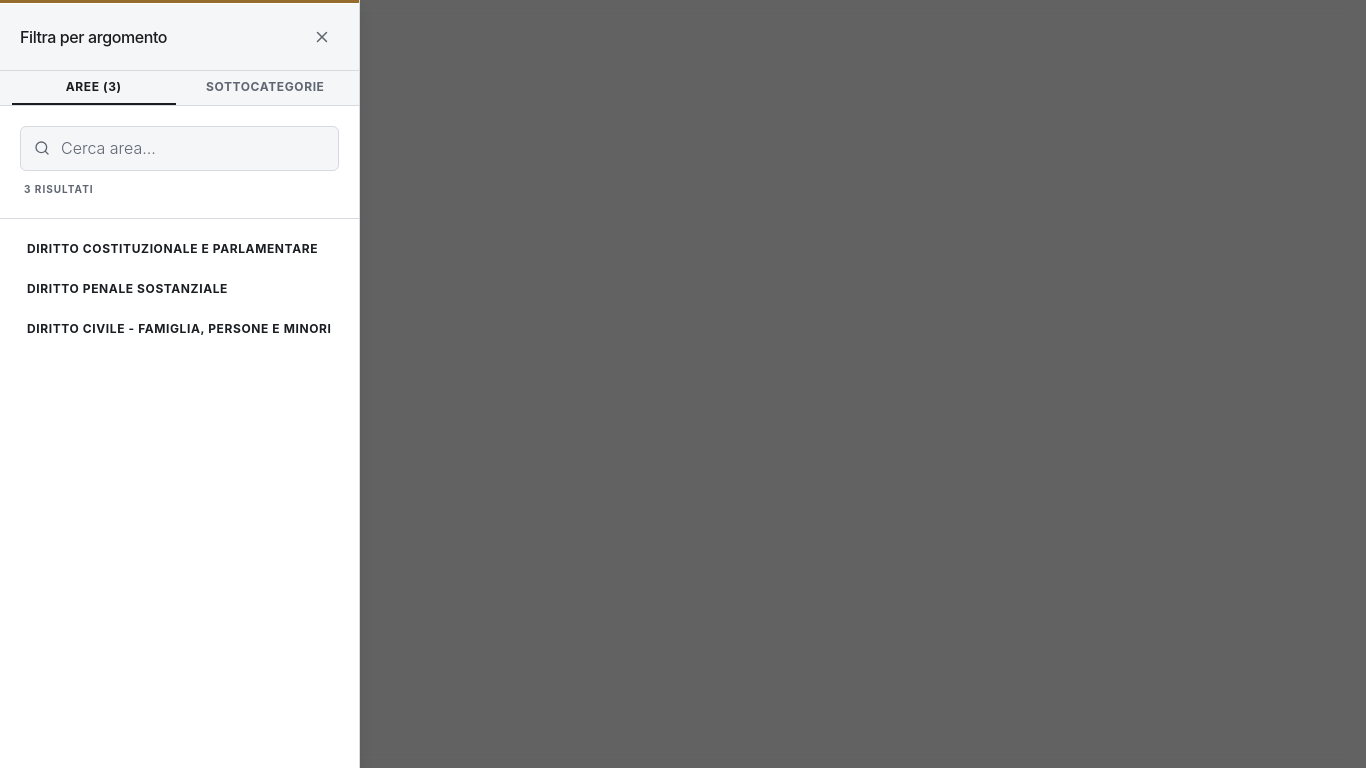
Test case: LeftPickerPanel Component Suite › permette di passare alla tab Sottocategorie visualizzando i relativi elementi
Click the button "Sottocategorie". click: [265, 92]
box: x1=184 y1=79 x2=347 y2=105
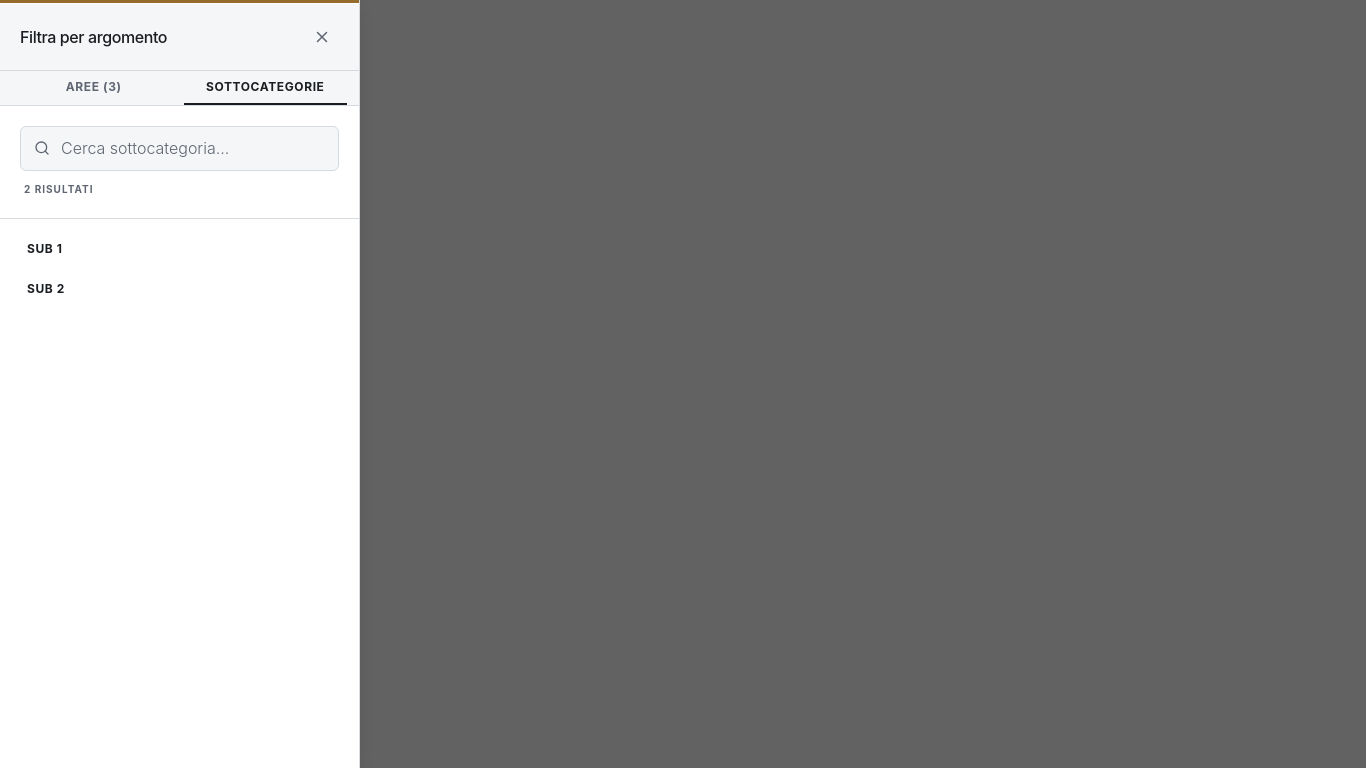
Expected: the button "Sub 1" is shown, x1=12 y1=231 x2=347 y2=267
Expected: the button "Sub 2" is shown, x1=12 y1=271 x2=347 y2=307
